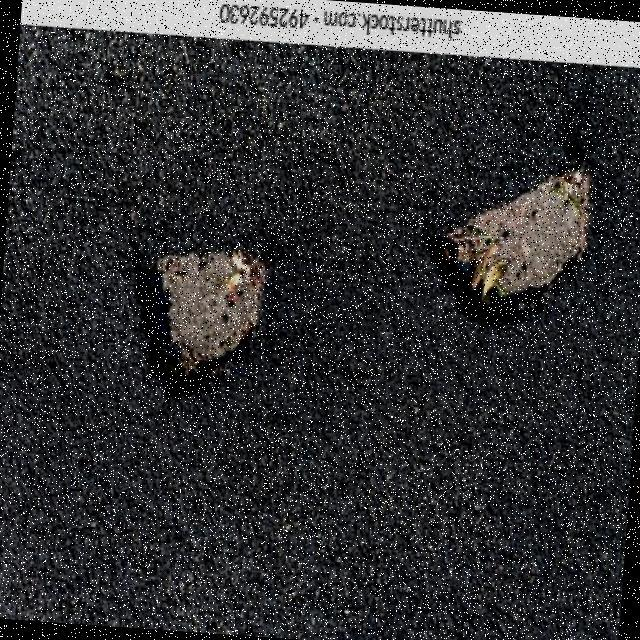Pothole: (425, 163, 593, 324), (136, 249, 265, 397)
